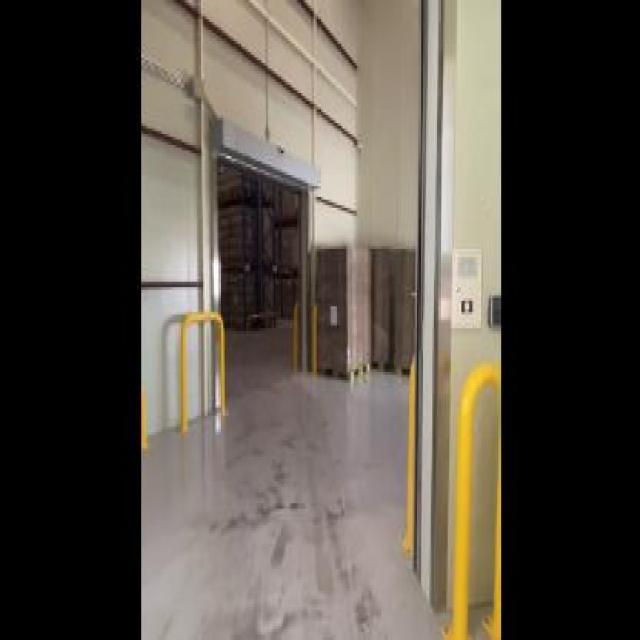box: (212, 164, 277, 323), (318, 246, 372, 383), (377, 249, 418, 372)
